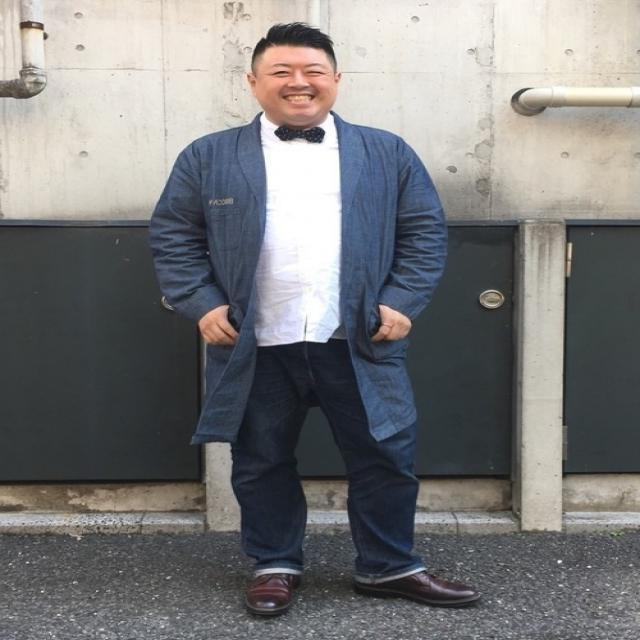direk: (153, 25, 481, 620)
